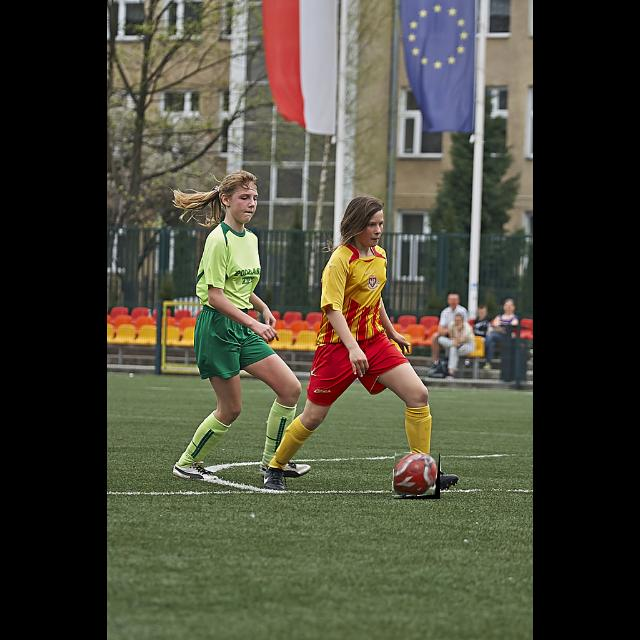Football: (394, 453, 440, 499)
